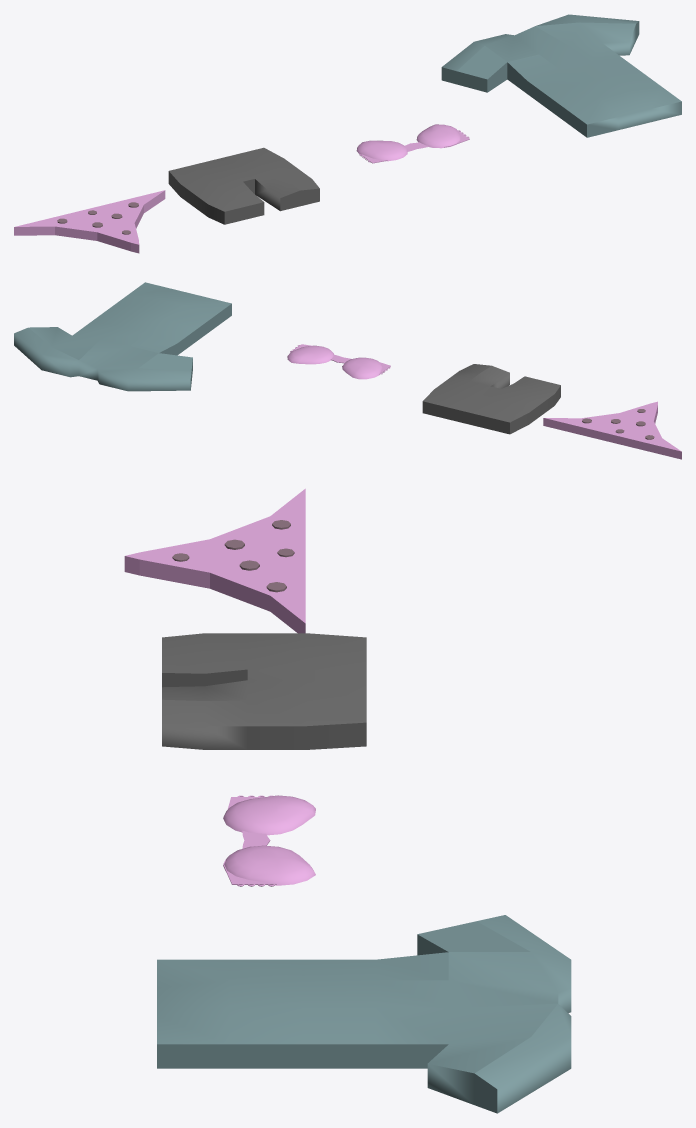
Rendered from RoupasMulher.fbx.
3 renders of one model, top to bottom at view 1: azimuth 30°, elevation 25°; view 2: azimuth 150°, elevation 25°; view 3: azimuth 270°, elevation 25°, orthographic. The views are drawn at different scales.
Visible parts, largest first — view 1: Cube.001, Cube, Cylinder, Sphere, Sphere.001; view 2: Cube.001, Cube, Cylinder, Sphere, Sphere.001; view 3: Cube.001, Cube, Cylinder, Sphere, Sphere.001.
Part boxes in pixels (x1,y1,x2,y2): Cube.001: (441, 14, 681, 137); Cube: (168, 147, 319, 224); Cylinder: (14, 190, 165, 253); Sphere: (356, 140, 407, 161); Sphere.001: (416, 124, 460, 148); Cube.001: (14, 282, 231, 391); Cube: (422, 364, 560, 434); Cylinder: (543, 401, 681, 459); Sphere: (342, 357, 382, 379); Sphere.001: (287, 345, 333, 364); Cube.001: (157, 915, 571, 1113); Cube: (162, 633, 366, 749); Cylinder: (124, 488, 305, 633); Sphere: (223, 795, 315, 835); Sphere.001: (223, 845, 315, 885).
Bounding box in the file's own units: 3464 × 84.97 × 1080.
